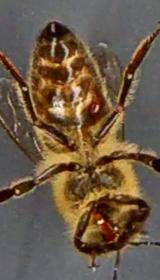varroa_mite: (82, 96, 106, 122)
